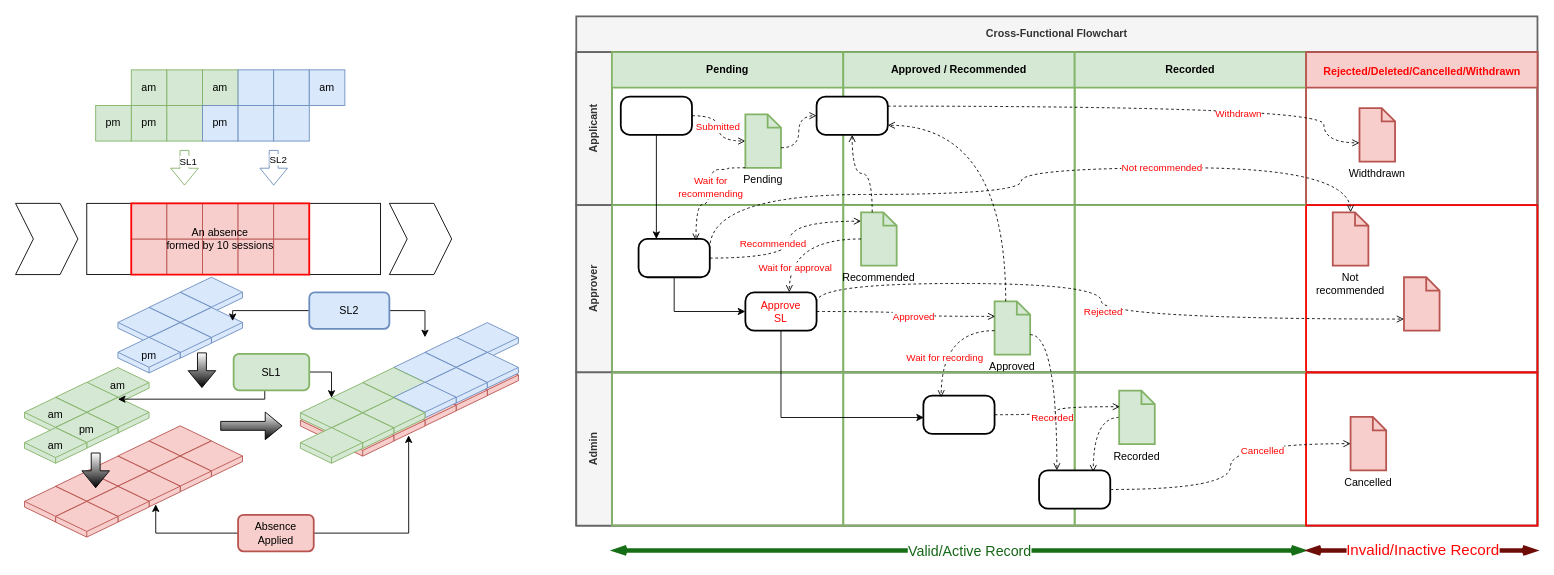
Image size: 1554x575. Some labels were removed from this diagram. Here are the shapes that lost their labels. From the top down, the box of each, then its label:
(619, 95, 692, 135): Apply SL
(815, 95, 888, 135): Widthdraw SL
(637, 238, 710, 278): Recommend SL
(1403, 276, 1440, 331): not approved
(922, 394, 995, 434): Record SL
(1038, 469, 1111, 509): Cancel SL
